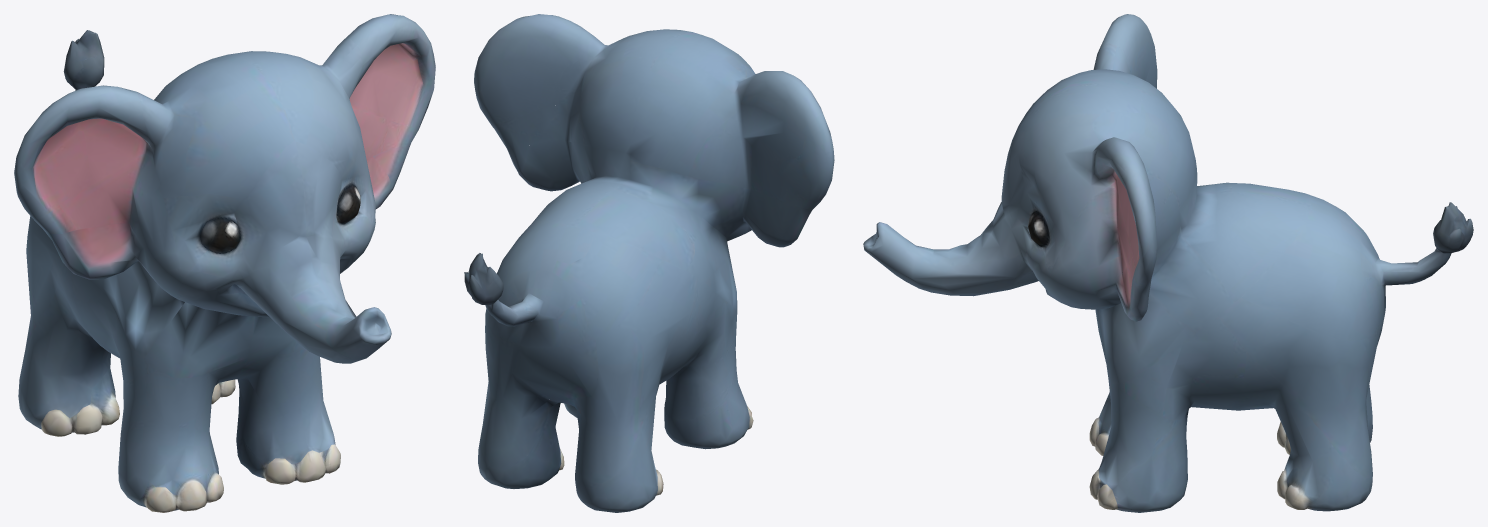
The model's file is elefante.glb.
3 views of the same model, side by side, from view 1: azimuth 30°, elevation 25°; view 2: azimuth 150°, elevation 25°; view 3: azimuth 270°, elevation 25° (orthographic). The views are drawn at different scales.
Parts seen in each view (by area): view 1: personagem; view 2: personagem; view 3: personagem.
Part boxes in pixels (box(x1,y1,x2,y2)): personagem: box(14, 14, 435, 512); personagem: box(464, 14, 834, 512); personagem: box(863, 14, 1473, 512).
Bounding box in the file's own units: 0.6986 × 0.694 × 0.9794.
1 material, 1 textured.
